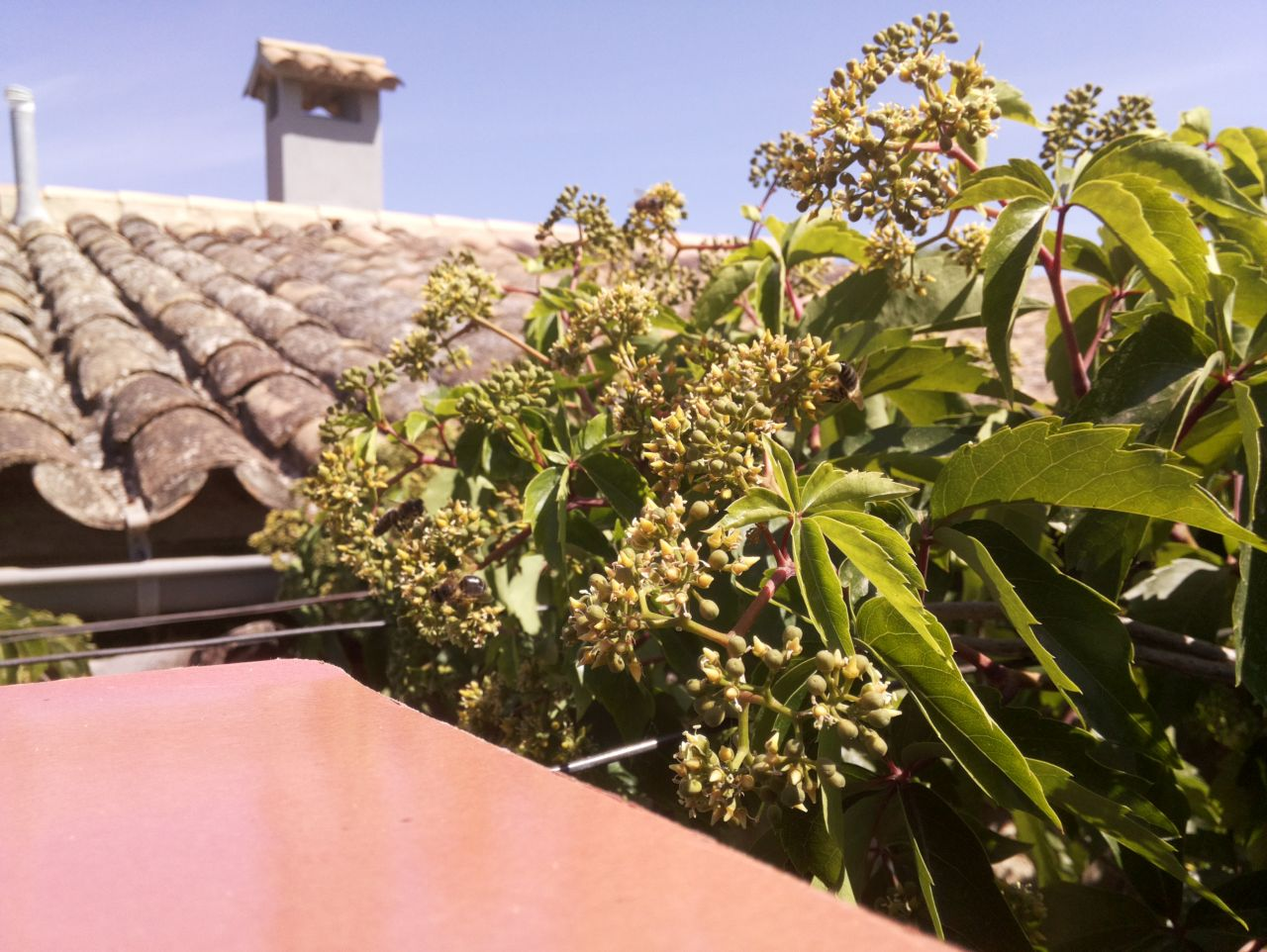Apis mellifera: (815, 348, 880, 417), (355, 487, 433, 542), (420, 566, 489, 611)
Unidentified insect: (621, 184, 674, 222)
